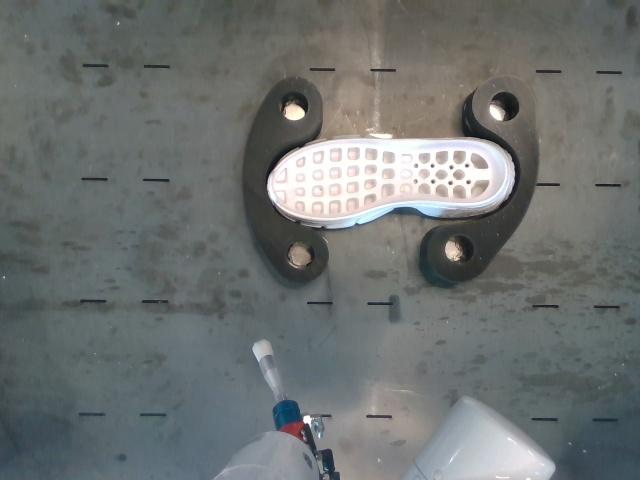shoes: (269, 140, 506, 218)
